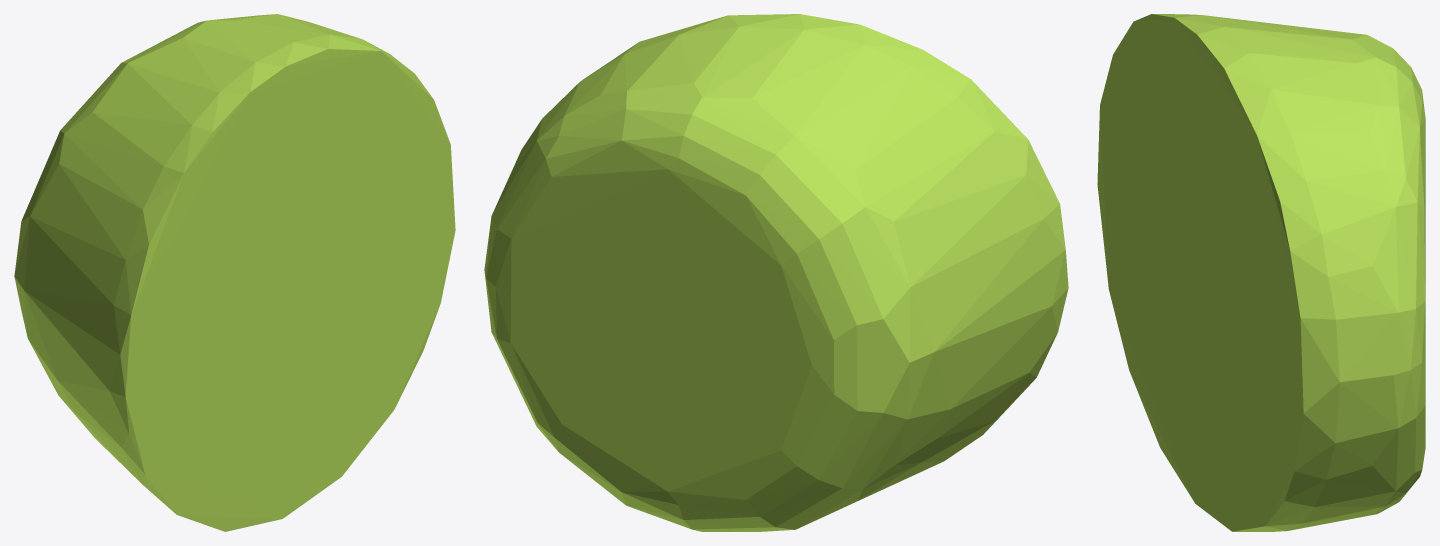
Rendered from industrial_06397_link_4_respondable_respondable_respondable_respondable_respondable_respondable_coll_1.dae.
3 views of the same model, side by side, from view 1: azimuth 30°, elevation 25°; view 2: azimuth 150°, elevation 25°; view 3: azimuth 270°, elevation 25° (orthographic). The views are drawn at different scales.
Parts seen in each view (by area): view 1: node; view 2: node; view 3: node.
Part boxes in pixels (x1=…): node: x1=14, y1=14, x2=455, y2=531; node: x1=484, y1=14, x2=1068, y2=531; node: x1=1097, y1=14, x2=1425, y2=531.
Bounding box in the file's own units: 0.0787 × 0.0786 × 0.0496.
